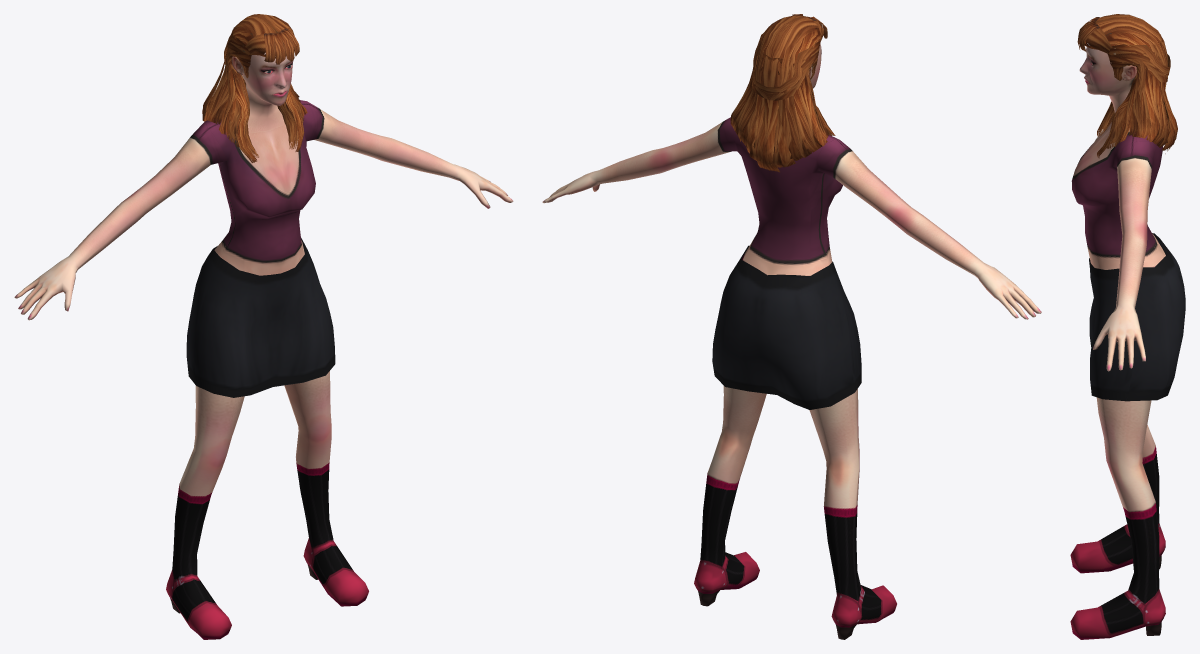
File: low_poly_red_hair_-gift_model_1k(1).glb
3 views of the same model, side by side, from view 1: azimuth 30°, elevation 25°; view 2: azimuth 150°, elevation 25°; view 3: azimuth 270°, elevation 25° (orthographic).
Parts seen in each view (by area): view 1: body.001, skirt.001, Plane.000; view 2: body.001, skirt.001, Plane.000; view 3: body.001, skirt.001, Plane.000.
Boxes of the visible parts, left/top/right/bottom form: body.001: left=14, top=32, right=513, bottom=639; skirt.001: left=186, top=238, right=335, bottom=397; Plane.000: left=202, top=14, right=307, bottom=162; body.001: left=542, top=43, right=1041, bottom=639; skirt.001: left=712, top=245, right=861, bottom=409; Plane.000: left=730, top=14, right=835, bottom=172; body.001: left=1070, top=33, right=1166, bottom=639; skirt.001: left=1089, top=233, right=1185, bottom=401; Plane.000: left=1077, top=14, right=1177, bottom=158.
Bounding box in the file's own units: 1.46 × 1.68 × 0.3006.
1 material, 1 textured.
